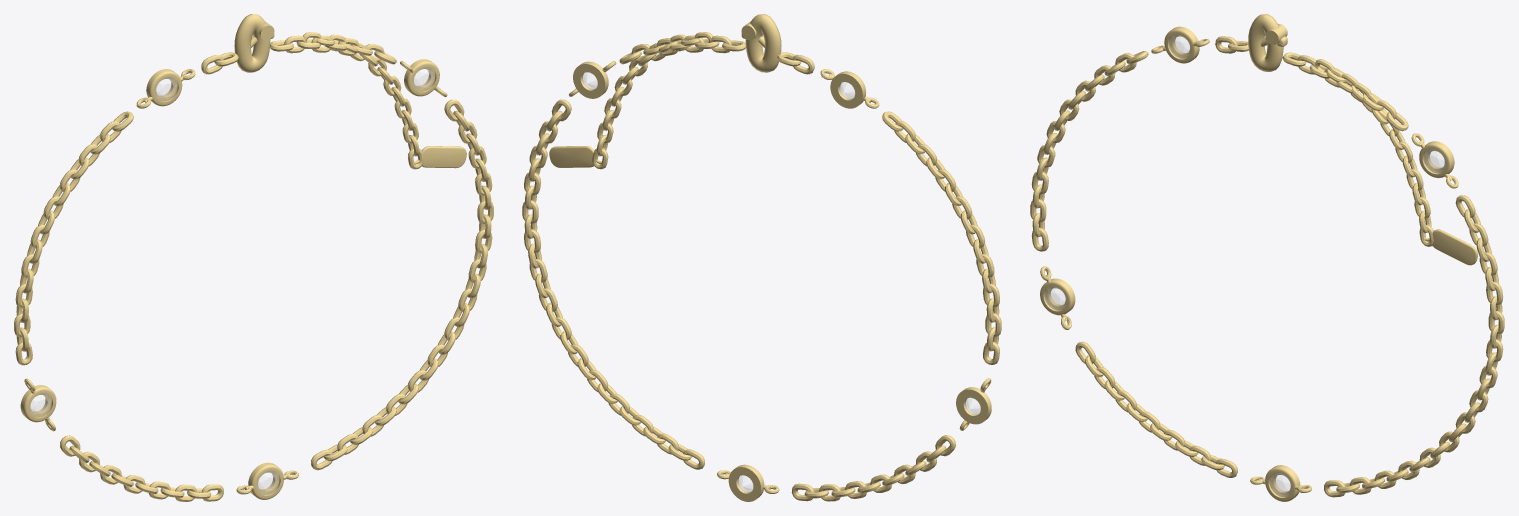
File: bezel_station_bracelet.glb
3 renders of one model, left to right at view 1: azimuth 30°, elevation 25°; view 2: azimuth 150°, elevation 25°; view 3: azimuth 330°, elevation 25°, orthographic.
Parts seen in each view (by area): view 1: bezel_station_bracelet; view 2: bezel_station_bracelet; view 3: bezel_station_bracelet.
Boxes of the visible parts, x1,y1,x2,y2 form: bezel_station_bracelet: [14, 14, 493, 501]; bezel_station_bracelet: [522, 14, 1001, 501]; bezel_station_bracelet: [1030, 14, 1504, 501].
Bounding box in the file's own units: 6.04 × 5.89 × 0.2298.
